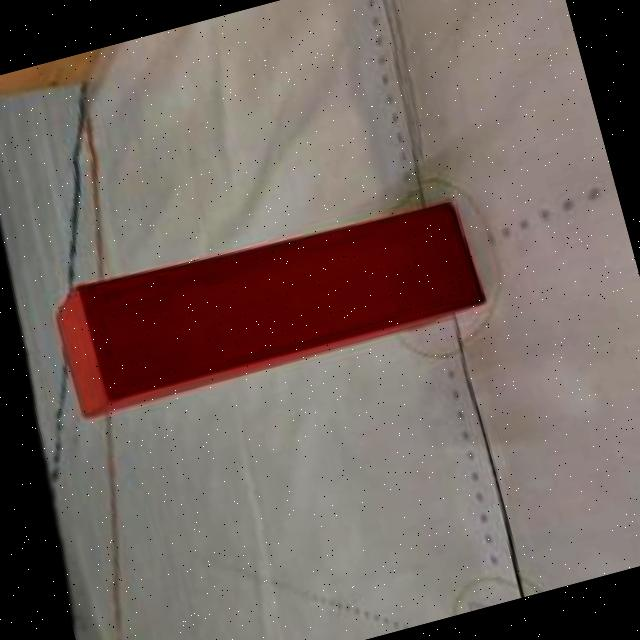redbox: (42, 182, 485, 424)
